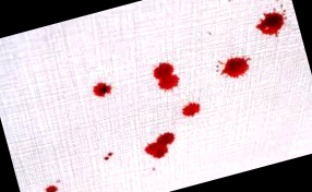blood: (141, 129, 180, 162), (254, 8, 290, 40), (151, 59, 181, 94), (220, 53, 254, 81), (90, 80, 114, 100), (179, 101, 203, 119), (43, 182, 60, 192), (101, 150, 115, 162)
